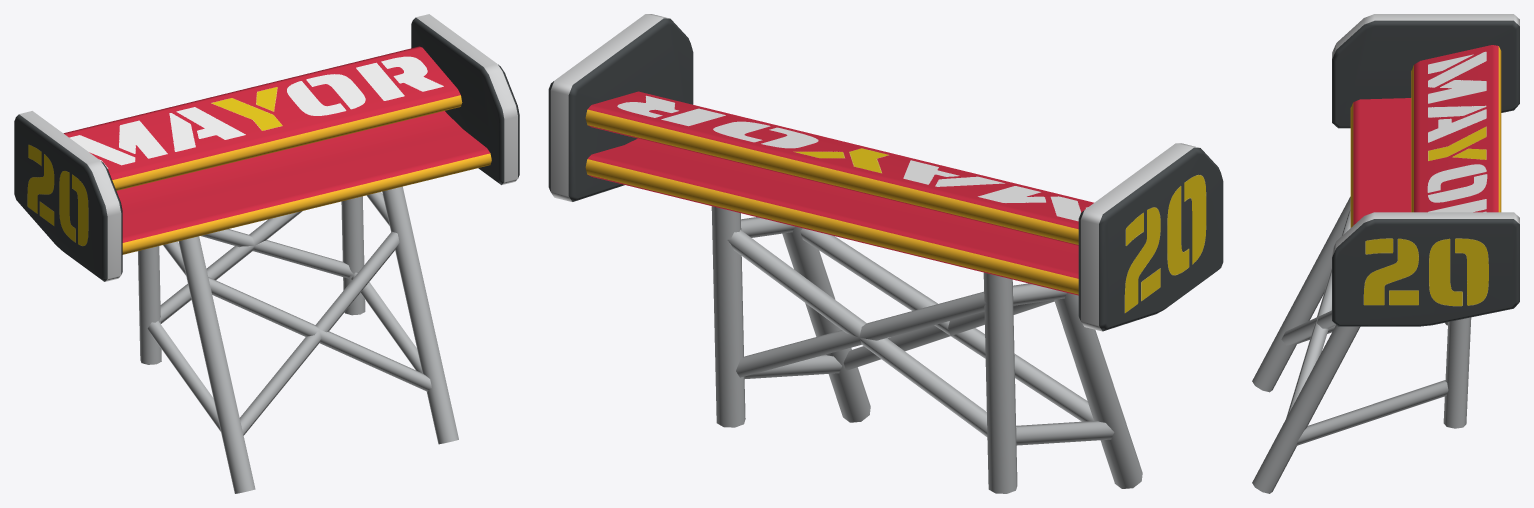
The model's file is Car_13_Spoiler.fbx.
3 renders of one model, left to right at view 1: azimuth 30°, elevation 25°; view 2: azimuth 150°, elevation 25°; view 3: azimuth 270°, elevation 25°, orthographic. The views are drawn at different scales.
Visible parts, largest first — view 1: Car_13_Spoiler; view 2: Car_13_Spoiler; view 3: Car_13_Spoiler.
Part boxes in pixels (x1,y1,x2,y2): Car_13_Spoiler: (14, 14, 519, 493); Car_13_Spoiler: (548, 14, 1223, 493); Car_13_Spoiler: (1252, 14, 1519, 493).
Size of the model in its own units: 190 by 103 by 138.
